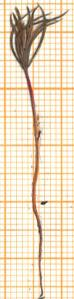flower: (0, 0, 71, 73)
root: (26, 202, 46, 299)
stem: (21, 69, 44, 202)
